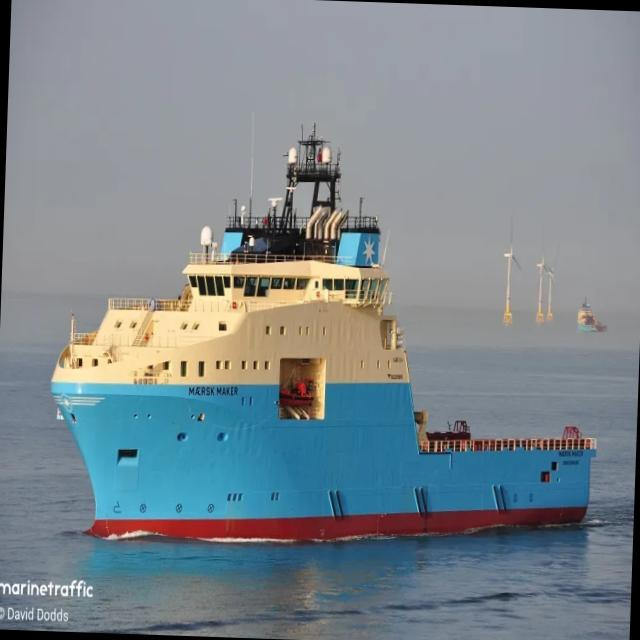Offshore: (50, 130, 595, 540)
